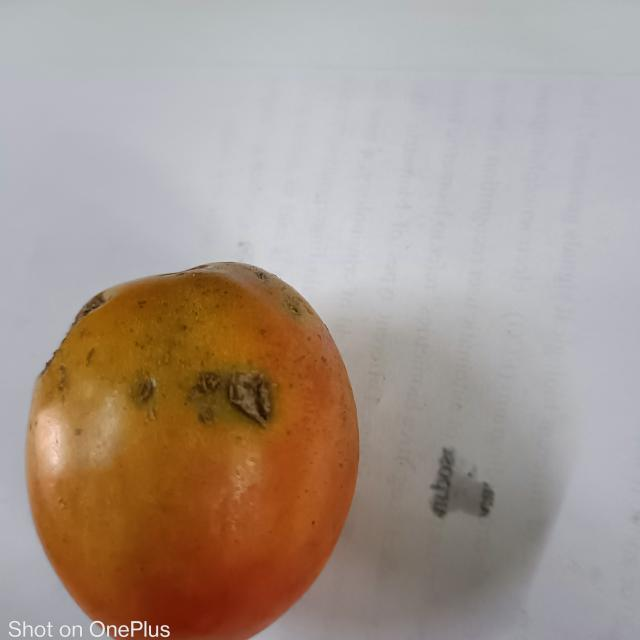Bacterial_Spot: (129, 363, 275, 431)
